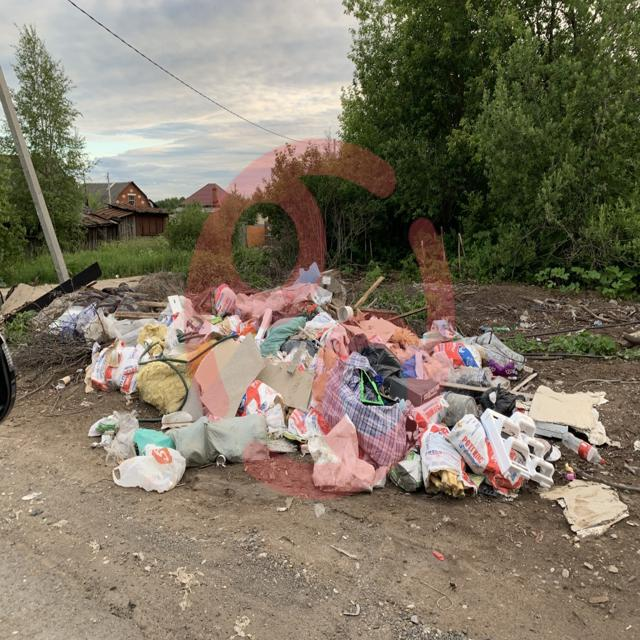lixeira: (93, 310, 612, 500)
